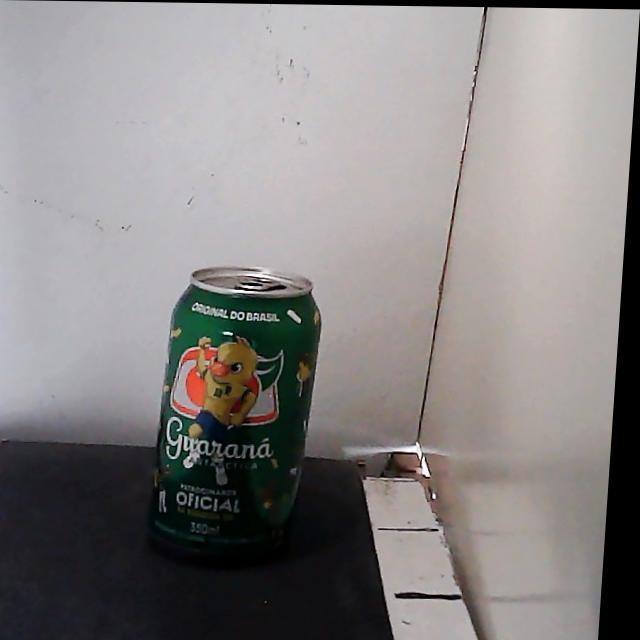metal: (148, 267, 321, 560)
